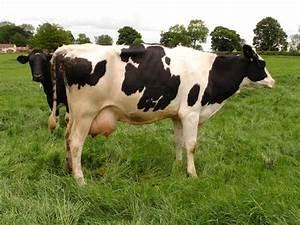cow: (47, 42, 276, 187), (16, 47, 69, 131)
